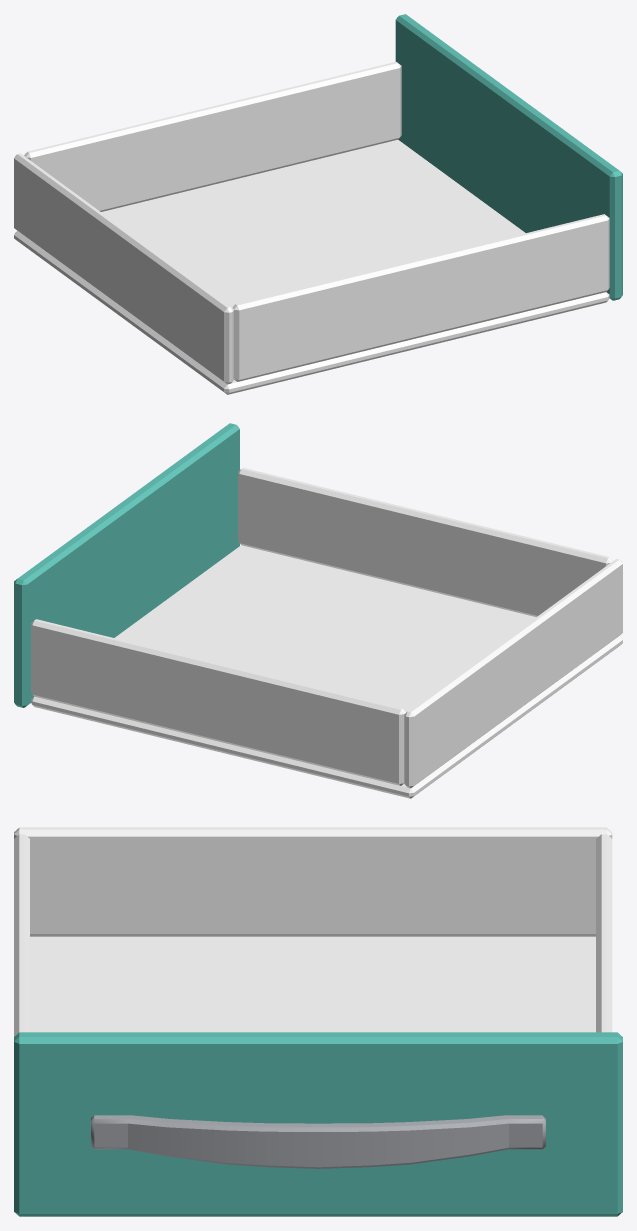
File: Set_box.fbx
The picture shows the model from 3 angles, top to bottom: view 1: azimuth 30°, elevation 25°; view 2: azimuth 150°, elevation 25°; view 3: azimuth 270°, elevation 25°; orthographic projection. The views are drawn at different scales.
Visible parts, largest first — view 1: Set_box; view 2: Set_box; view 3: Set_box.
Boxes of the visible parts, left/top/right/bottom form: Set_box: left=14, top=14, right=622, bottom=394; Set_box: left=14, top=423, right=622, bottom=798; Set_box: left=14, top=827, right=622, bottom=1216.
Bounding box in the file's own units: 0.6455 × 0.1848 × 0.5675.
